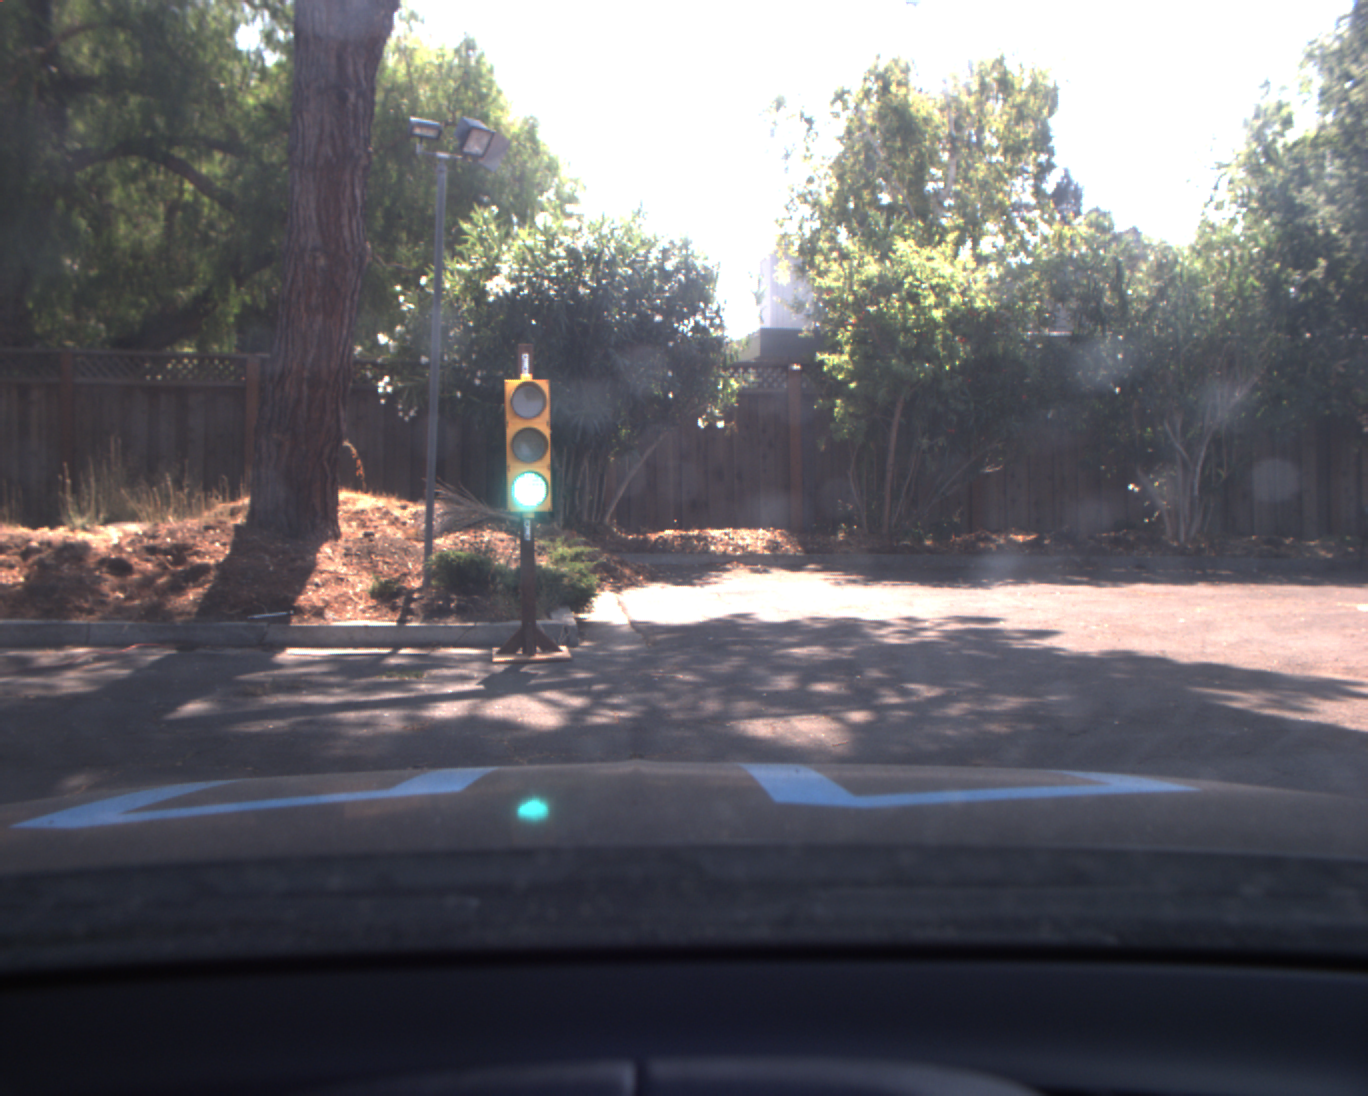green: (501, 370, 556, 516)
